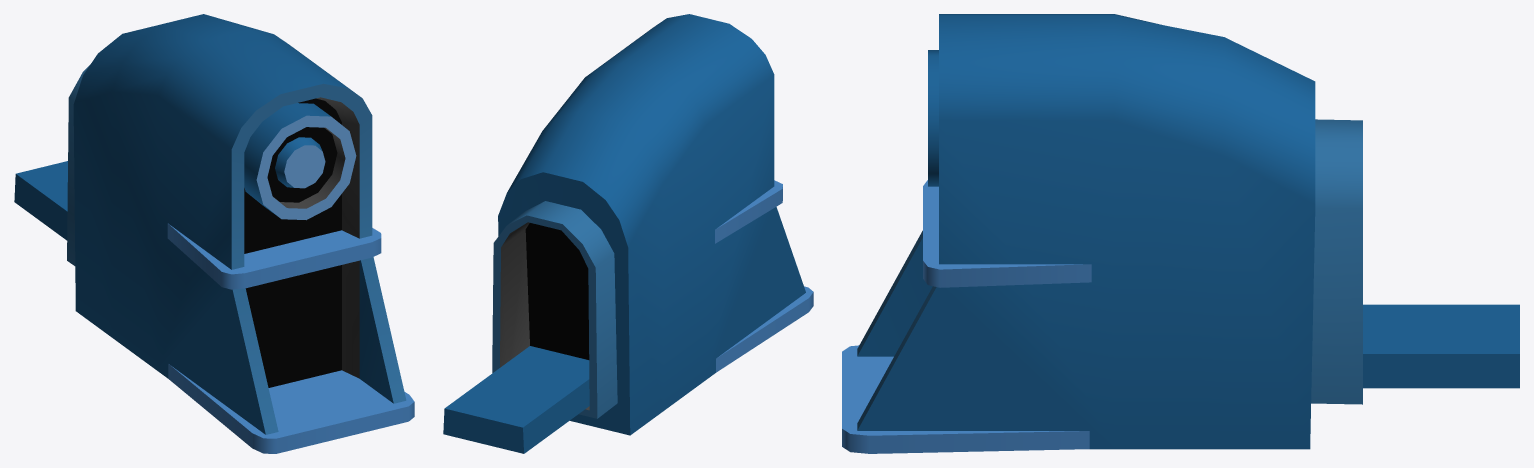
The model's file is Grenade-gun_Conveyor.fbx.
The picture shows the model from 3 angles, left to right: view 1: azimuth 30°, elevation 25°; view 2: azimuth 150°, elevation 25°; view 3: azimuth 270°, elevation 25°; orthographic projection. The views are drawn at different scales.
Visible parts, largest first — view 1: Grenade-gun_Conveyor; view 2: Grenade-gun_Conveyor; view 3: Grenade-gun_Conveyor.
Boxes of the visible parts, x1,y1,x2,y2 form: Grenade-gun_Conveyor: (14,14,414,453); Grenade-gun_Conveyor: (443,14,813,453); Grenade-gun_Conveyor: (842,14,1519,453).
Bounding box in the file's own units: 0.9914 × 1.9 × 3.07.
